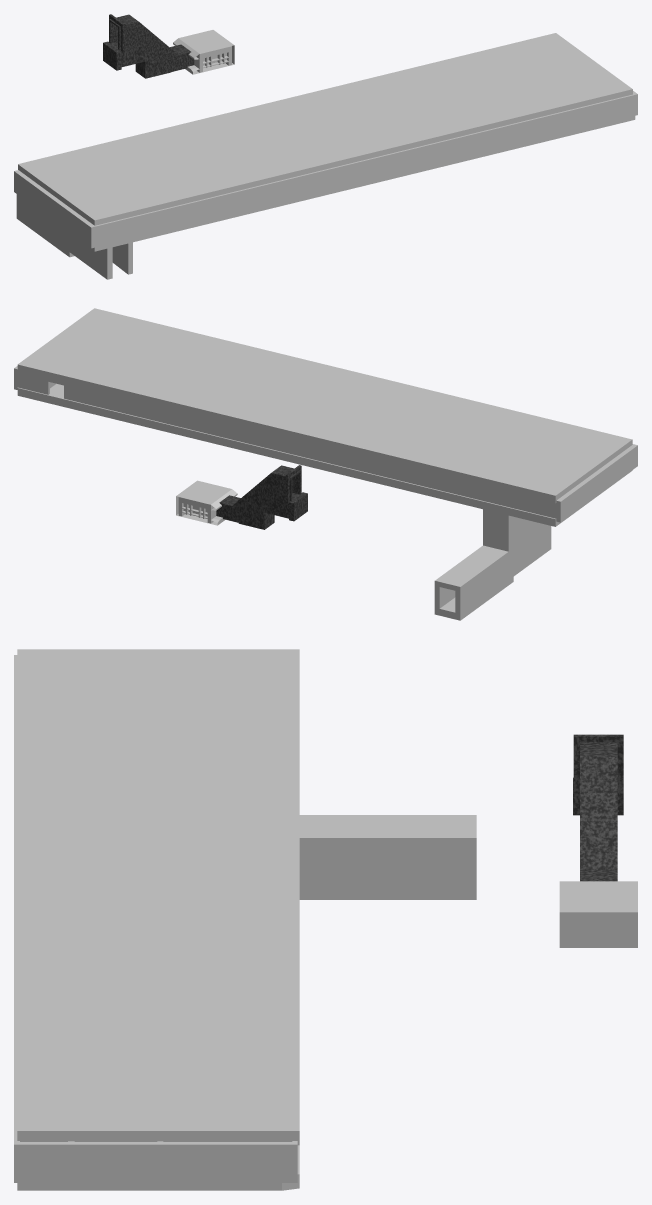
File: Ammobunker.fbx
3 renders of one model, top to bottom at view 1: azimuth 30°, elevation 25°; view 2: azimuth 150°, elevation 25°; view 3: azimuth 270°, elevation 25°, orthographic. The views are drawn at different scales.
Visible parts, largest first — view 1: Cube.005, Cube, Cube.004, Cube.007, Cube.001; view 2: Cube.005, Cube.004, Cube, Cube.007, Cube.001; view 3: Cube.005, Cube.004, Cube, Cube.007, Cube.001.
Boxes of the visible parts, x1,y1,x2,y2 form: Cube.005: (18,33,632,225); Cube: (14,91,637,248); Cube.004: (16,116,635,279); Cube.007: (103,14,194,78); Cube.001: (173,30,234,74); Cube.005: (17,308,632,503); Cube.004: (17,383,632,620); Cube: (14,366,637,522); Cube.007: (216,465,307,529); Cube.001: (176,480,237,525); Cube.005: (17,649,299,1145); Cube.004: (17,815,476,1190); Cube: (14,655,297,1182); Cube.007: (573,734,623,881); Cube.001: (559,881,637,947).
Size of the model in its own units: 14779 by 3673 by 7959.
